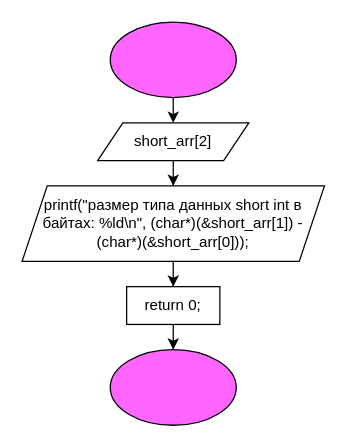
This 347x447 diagram has some shape labels left out. Here are the shapes that lost their labels. From the top down, the centre of each, then its label:
At (172,59): "НАЧАЛО".
At (172,386): "КОНЕЦ".
